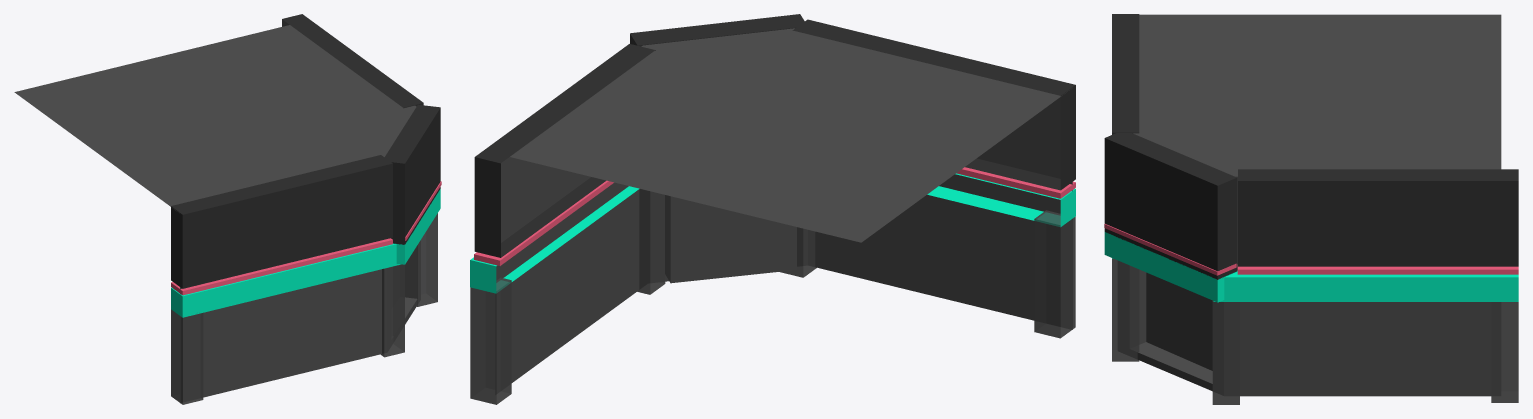
The model's file is edificio 1.fbx.
3 renders of one model, left to right at view 1: azimuth 30°, elevation 25°; view 2: azimuth 150°, elevation 25°; view 3: azimuth 270°, elevation 25°, orthographic. The views are drawn at different scales.
Visible parts, largest first — view 1: BASE, FrenteIzquierdo, FrenteMedio, Arriba, Derecho; view 2: BASE, FrenteMedio, Derecho, FrenteIzquierdo, Arriba; view 3: BASE, Derecho, Arriba, FrenteMedio, FrenteIzquierdo.
Part boxes in pixels (x1,y1,x2,y2): BASE: (14,25,420,402); FrenteIzquierdo: (171,155,400,317); FrenteMedio: (171,213,437,404); Arriba: (384,104,441,264); Derecho: (282,14,423,108); BASE: (495,28,1072,394); FrenteMedio: (470,189,1075,404); Derecho: (470,44,655,293); FrenteIzquierdo: (792,19,1075,227); Arriba: (630,14,804,46); BASE: (1118,14,1501,396); Derecho: (1213,169,1518,301); Arriba: (1104,133,1237,302); FrenteMedio: (1112,258,1518,404); FrenteIzquierdo: (1112,14,1139,258).
Size of the model in its own units: 1487 by 895 by 1513.
